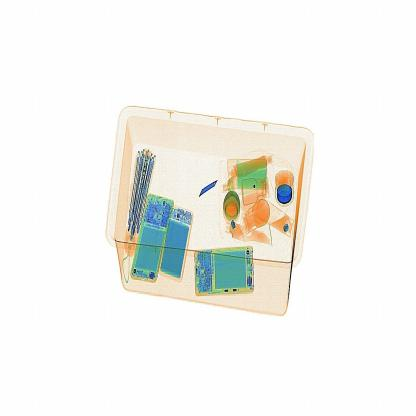pliers: (193, 169, 221, 206)
